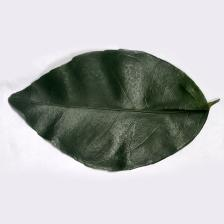healthy: (6, 46, 211, 173)
